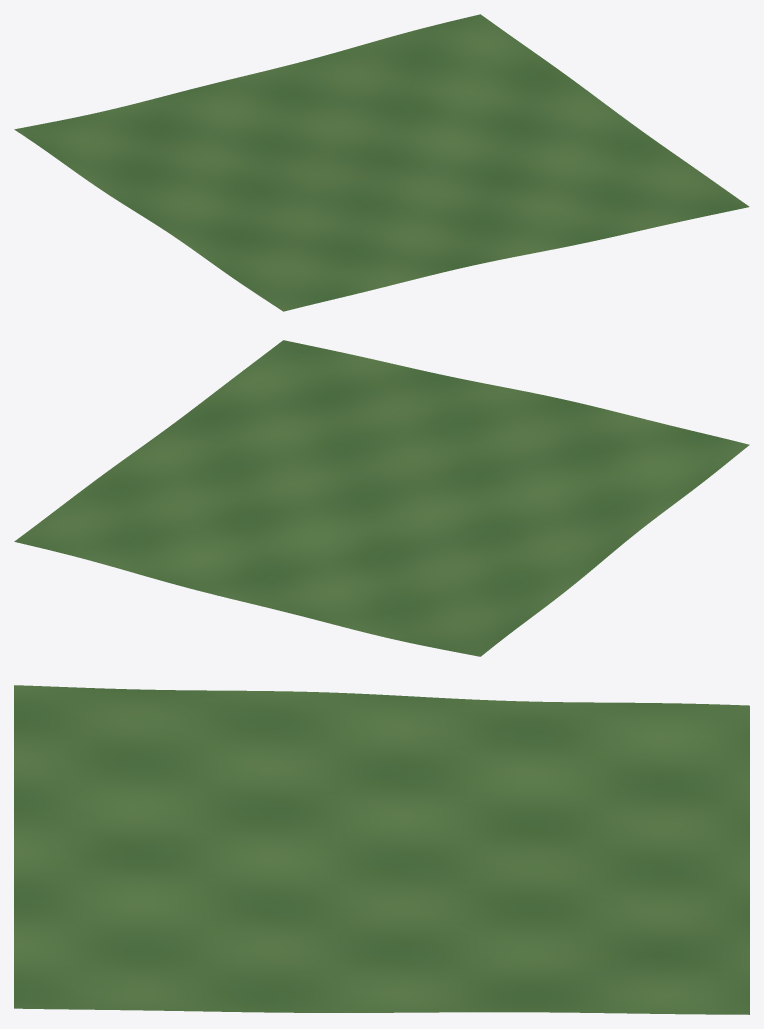
Rendered from chunk_8_2.glb.
The picture shows the model from 3 angles, top to bottom: view 1: azimuth 30°, elevation 25°; view 2: azimuth 150°, elevation 25°; view 3: azimuth 270°, elevation 25°; orthographic projection. The views are drawn at different scales.
Bounding box in the file's own units: 512 × 19.97 × 512.
